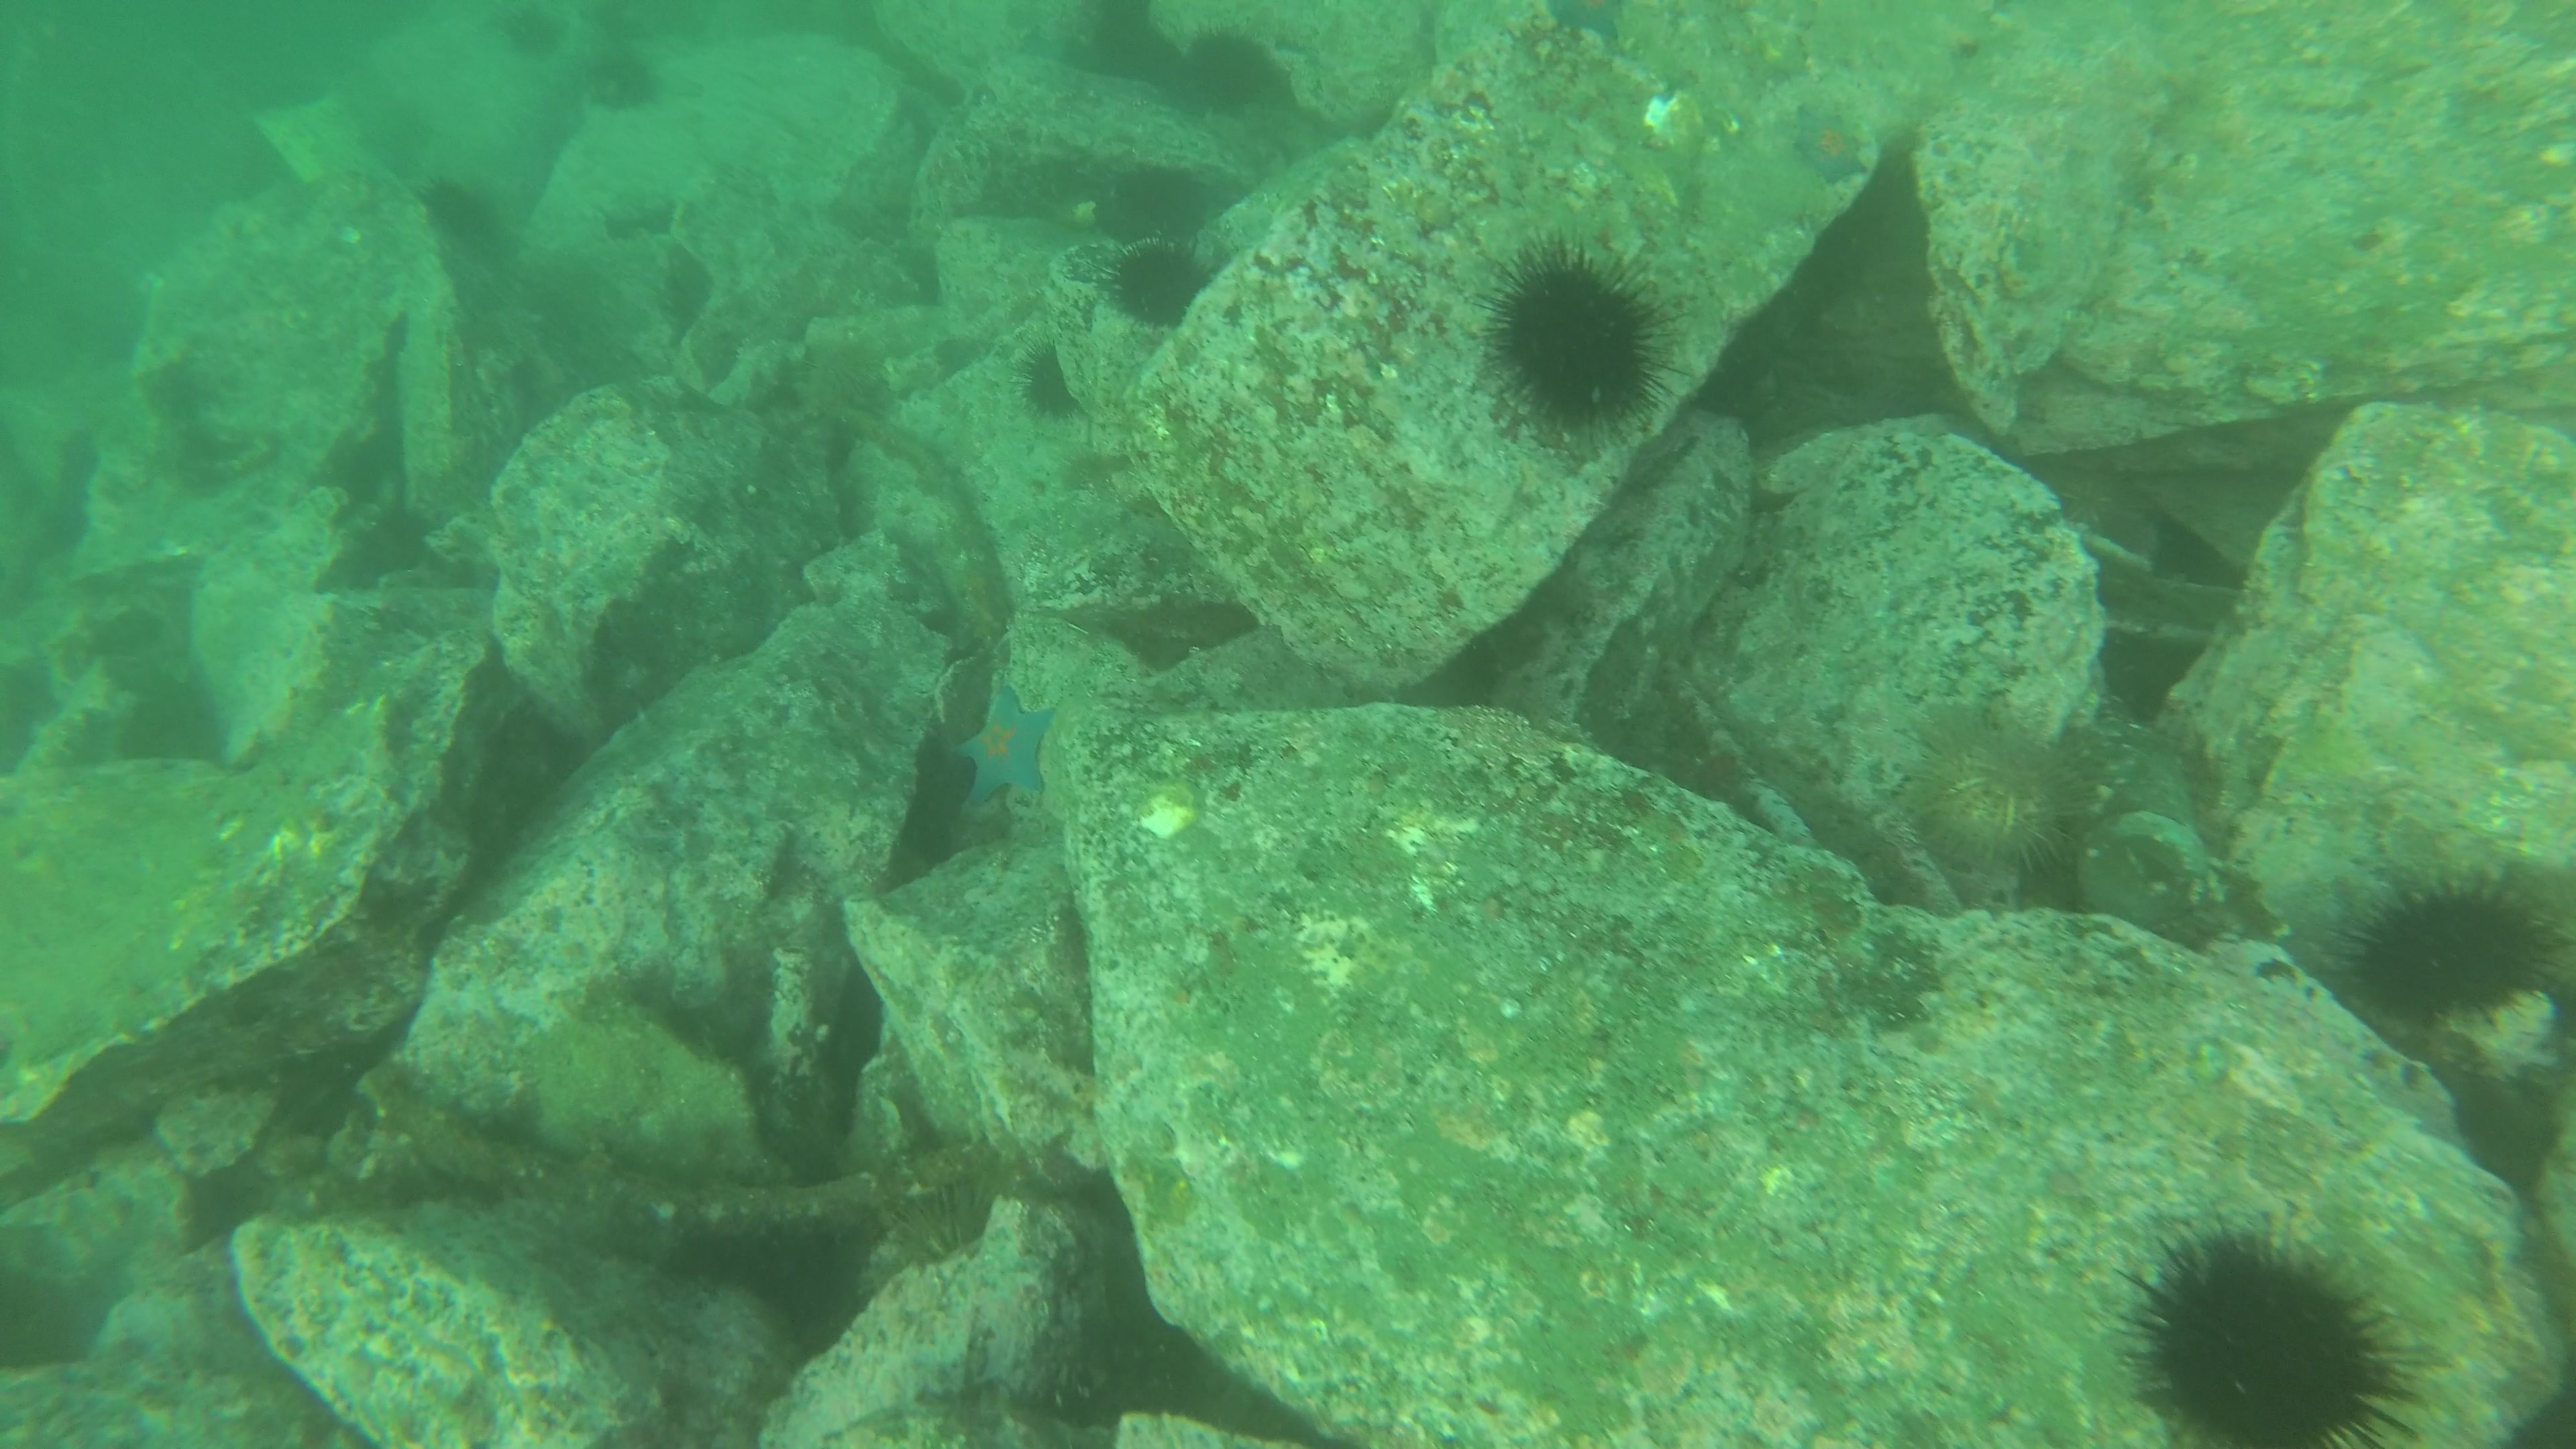echinus: (2116, 1221, 2420, 1445), (1477, 239, 1675, 437), (2335, 867, 2560, 1030), (1904, 713, 2088, 878), (872, 1173, 1000, 1277), (1166, 23, 1290, 122), (1092, 157, 1214, 249), (1102, 234, 1215, 333), (2045, 453, 2150, 547), (414, 170, 508, 260), (1012, 336, 1088, 426), (580, 42, 667, 117), (487, 2, 573, 65)
starfish: (945, 678, 1063, 817), (1780, 96, 1879, 191), (1539, 0, 1635, 51)
